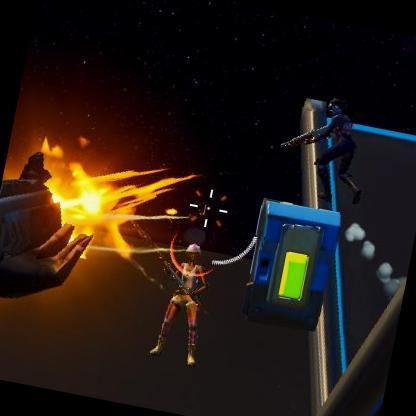person: (294, 90, 378, 204), (152, 242, 212, 356)
